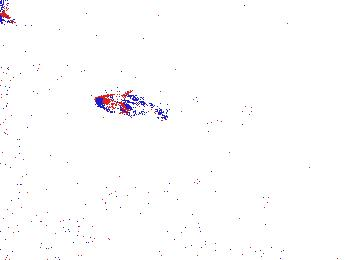X-ray fish: (53, 219, 97, 248)
red belly glassfish: (92, 93, 163, 117)
